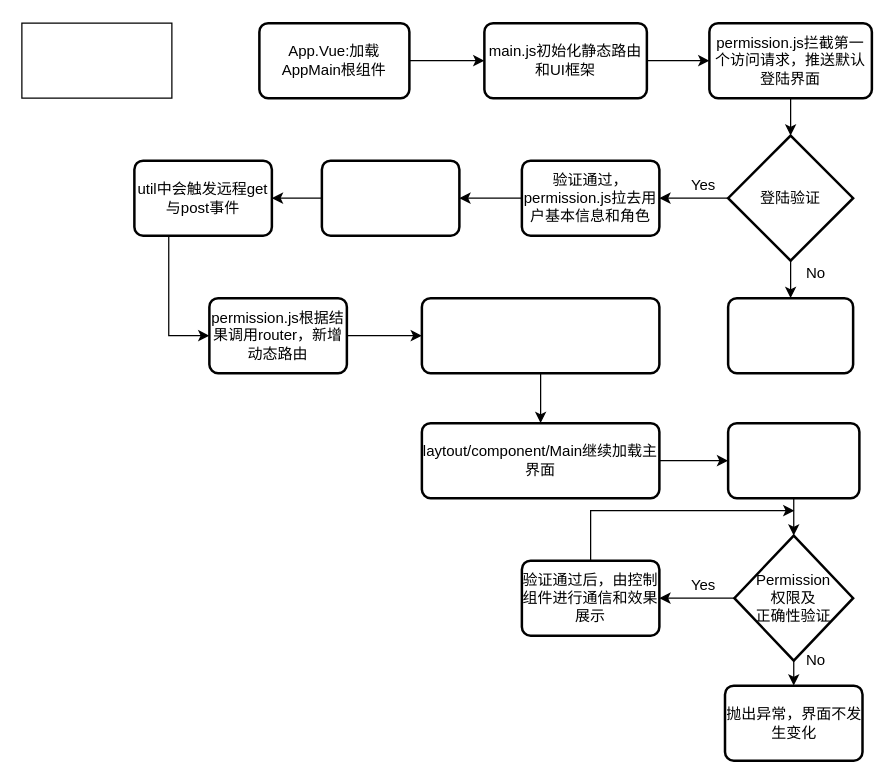
Some shapes in this 895 by 783 pixel diagram are drawn without their labels. Each missing label, with the centre of its shape:
"laytout/component/Siderbar由于数据双向绑定，会自动加载新的路由，将路由分级转化为视图" goes at point (540, 335).
"store会dispatch新的数据" goes at point (390, 197).
"以kubeext-dashboard中src文件夹为根目录" goes at point (96, 60).
"保持原界面" goes at point (790, 335).
"显示仪表盘，用户等待下次操作" goes at point (793, 460).
